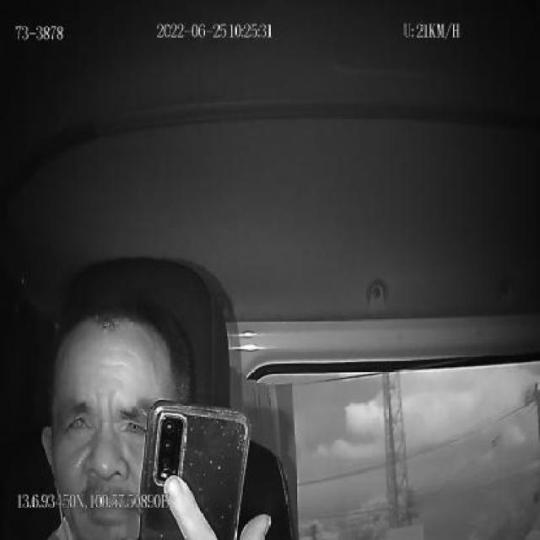phone: (138, 398, 252, 540)
